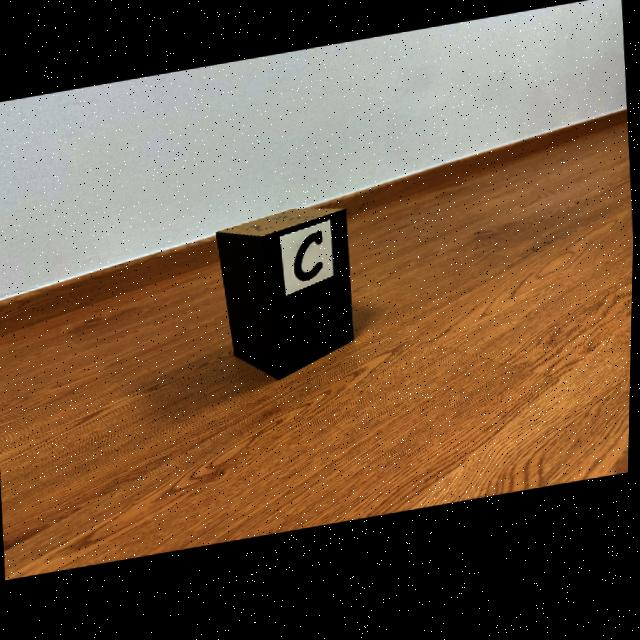C: (295, 237, 324, 287)
